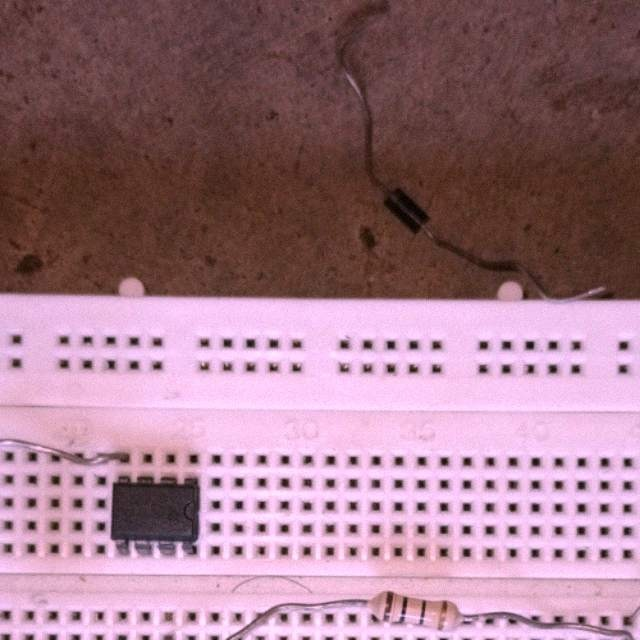resistor: (364, 588, 466, 634)
